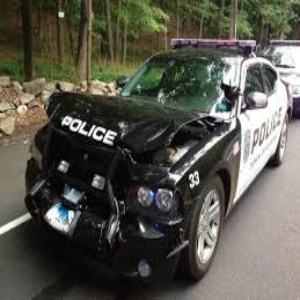bonnet: (43, 82, 185, 164)
